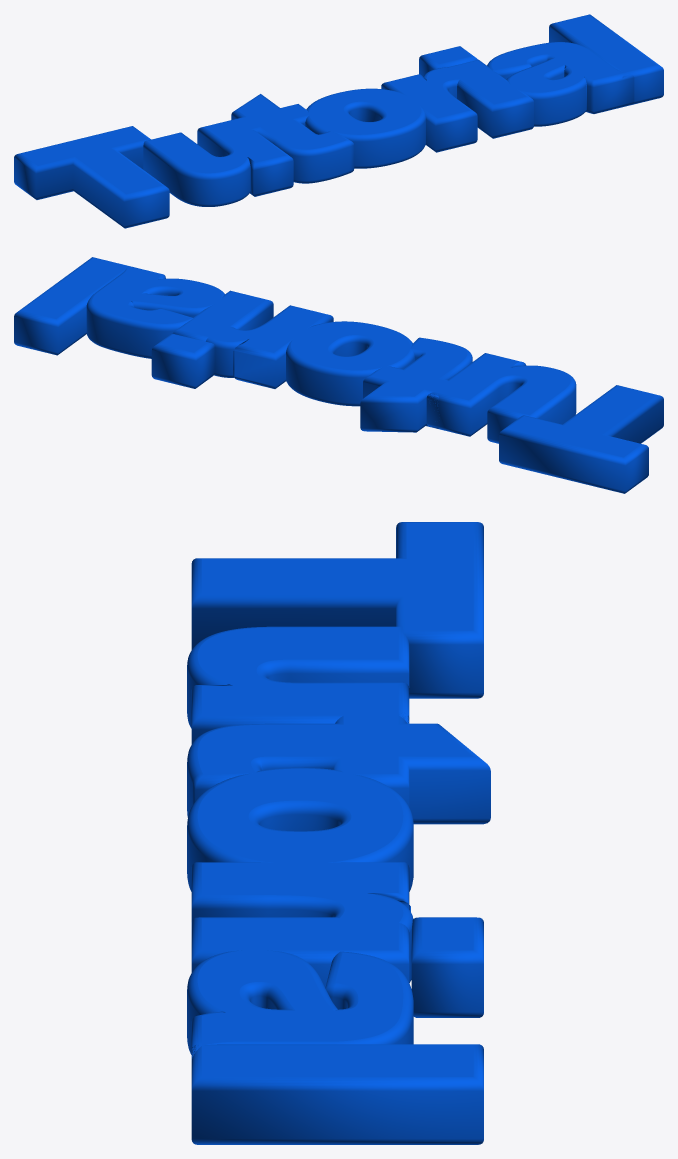
Rendered from tutorialTrxt.fbx.
3 views of the same model, one above another, from view 1: azimuth 30°, elevation 25°; view 2: azimuth 150°, elevation 25°; view 3: azimuth 270°, elevation 25° (orthographic). The views are drawn at different scales.
Parts seen in each view (by area): view 1: Text; view 2: Text; view 3: Text.
Part boxes in pixels (x1=…): Text: x1=14, y1=14, x2=663, y2=228; Text: x1=14, y1=257, x2=663, y2=493; Text: x1=187, y1=522, x2=490, y2=1144.
Size of the model in its own units: 253 by 14 by 57.61.
